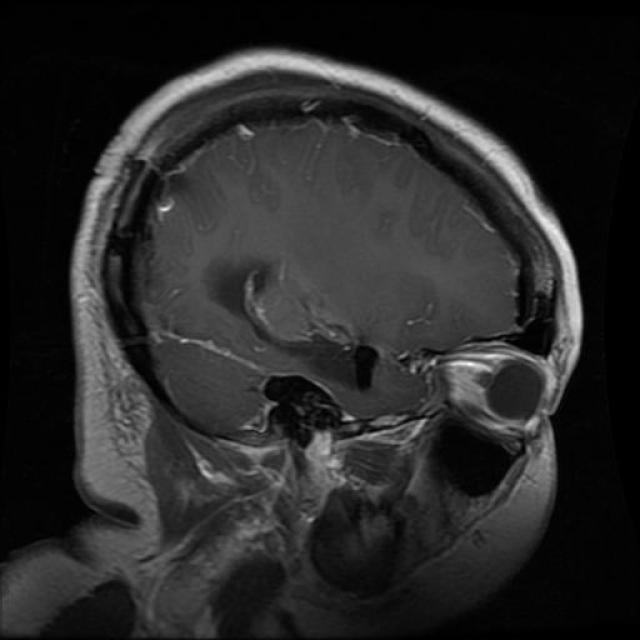glioma: (198, 248, 372, 372)
